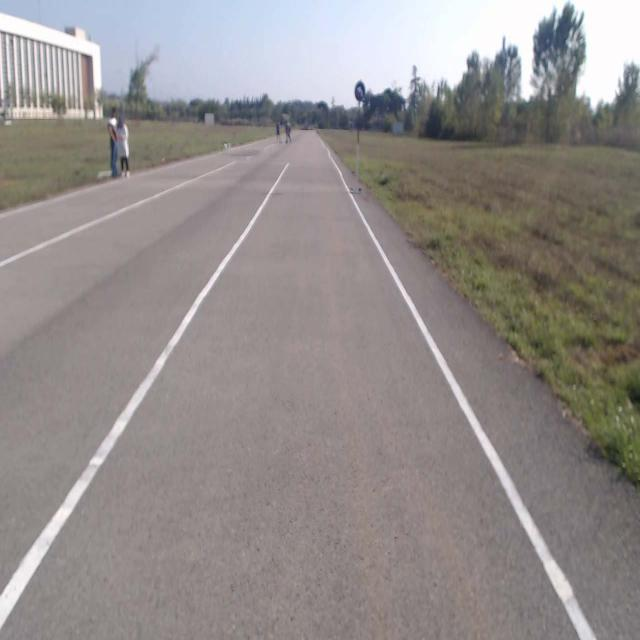sol: (354, 81, 366, 100)
